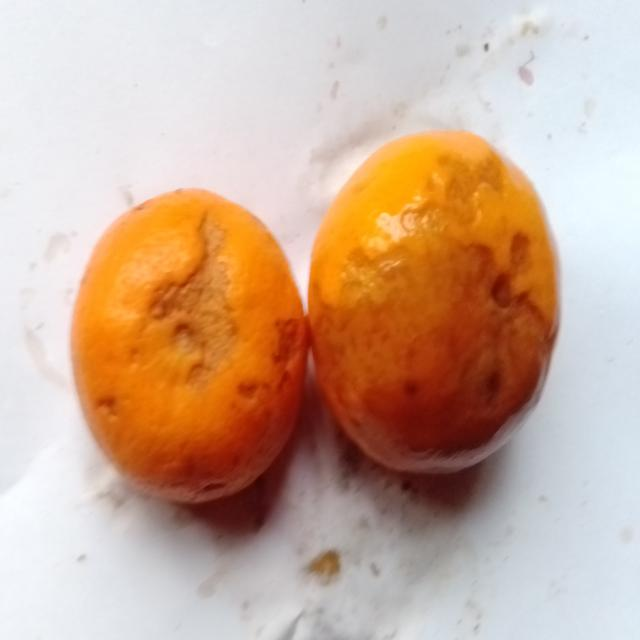orange: (309, 132, 558, 471), (72, 190, 307, 502)
